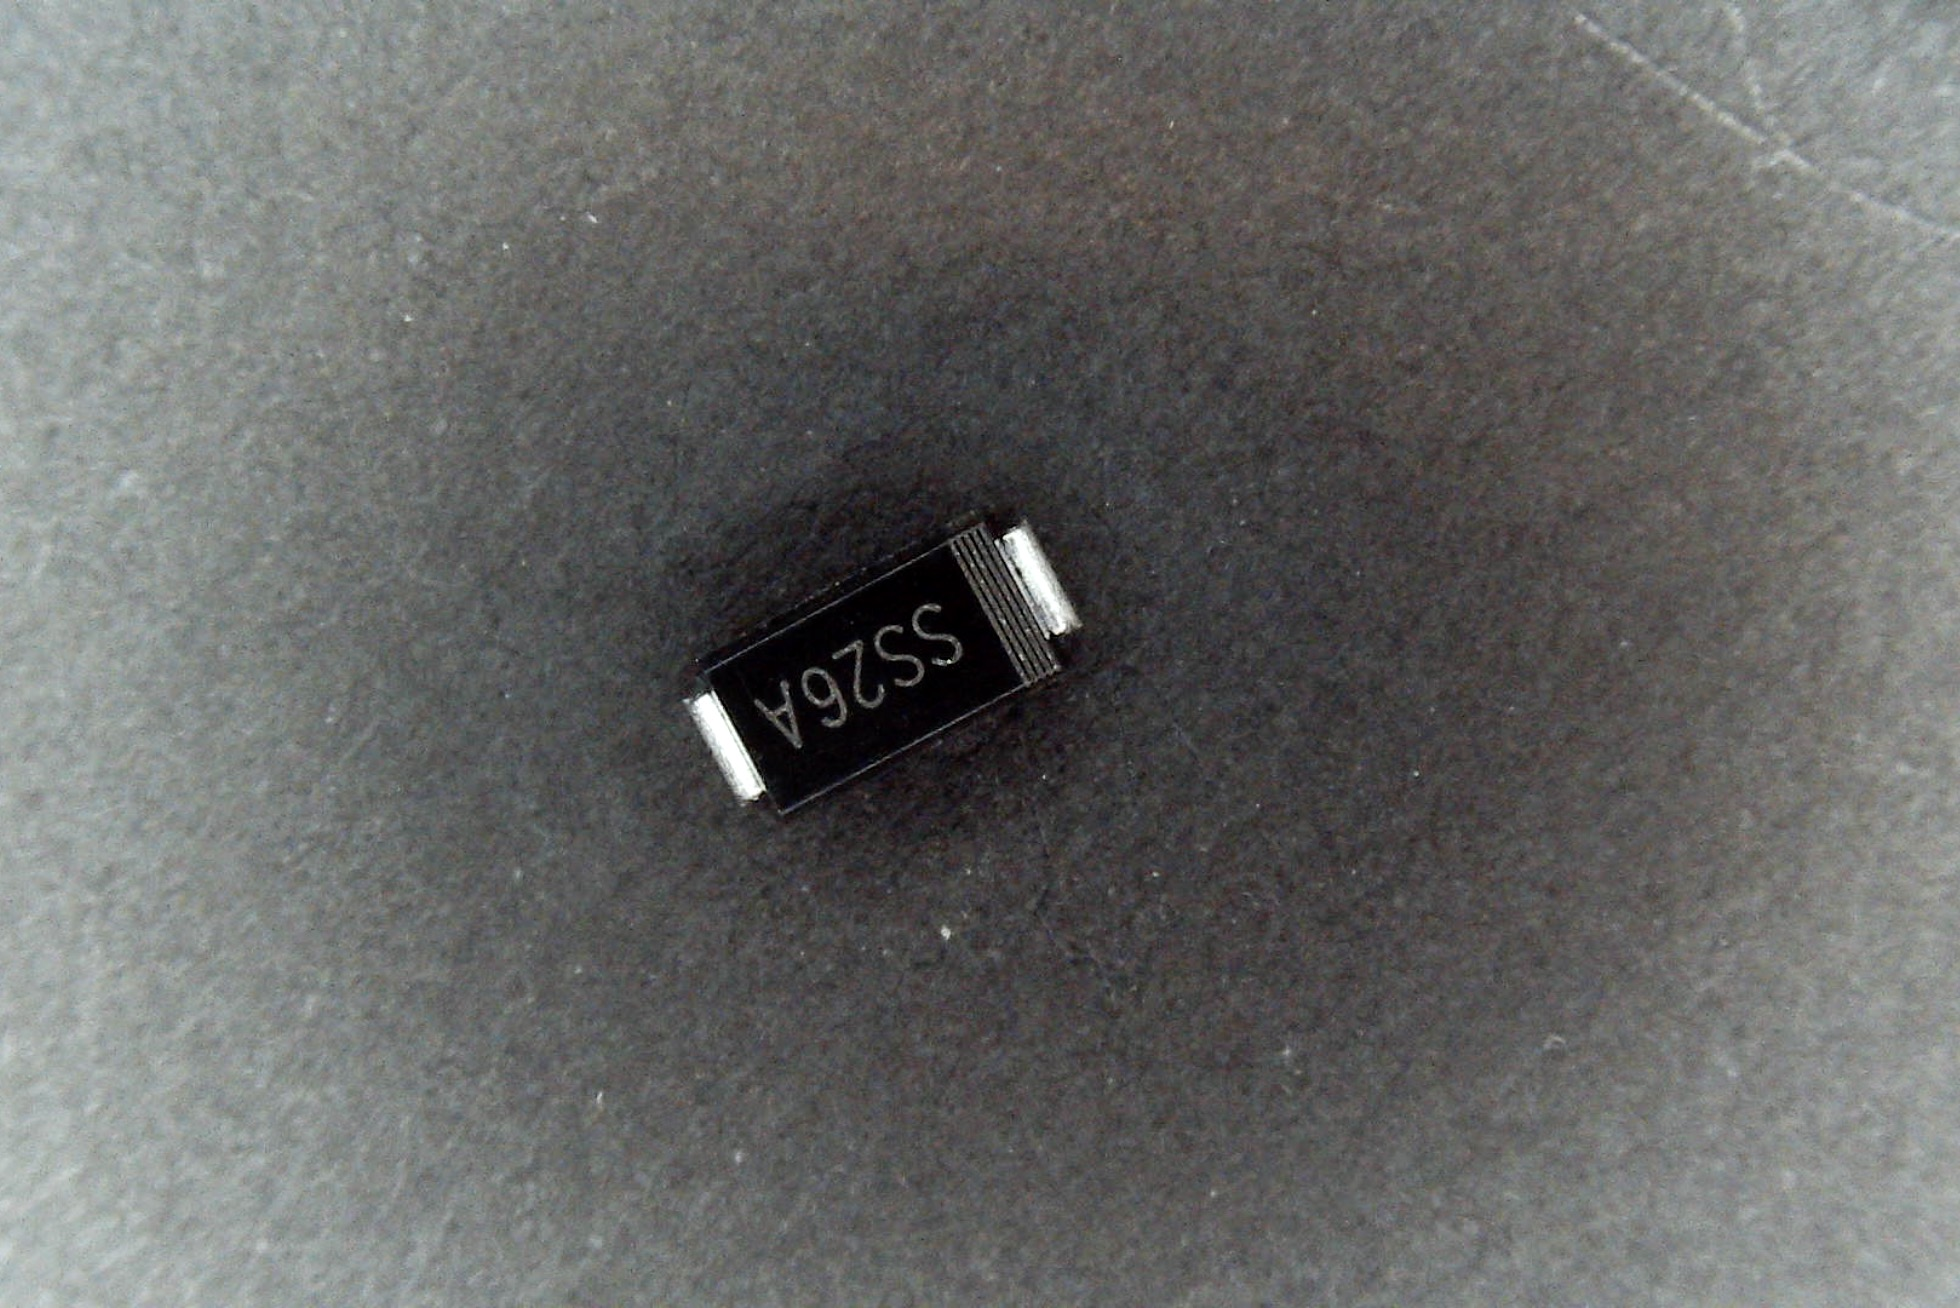bbox: (682, 507, 1084, 825)
